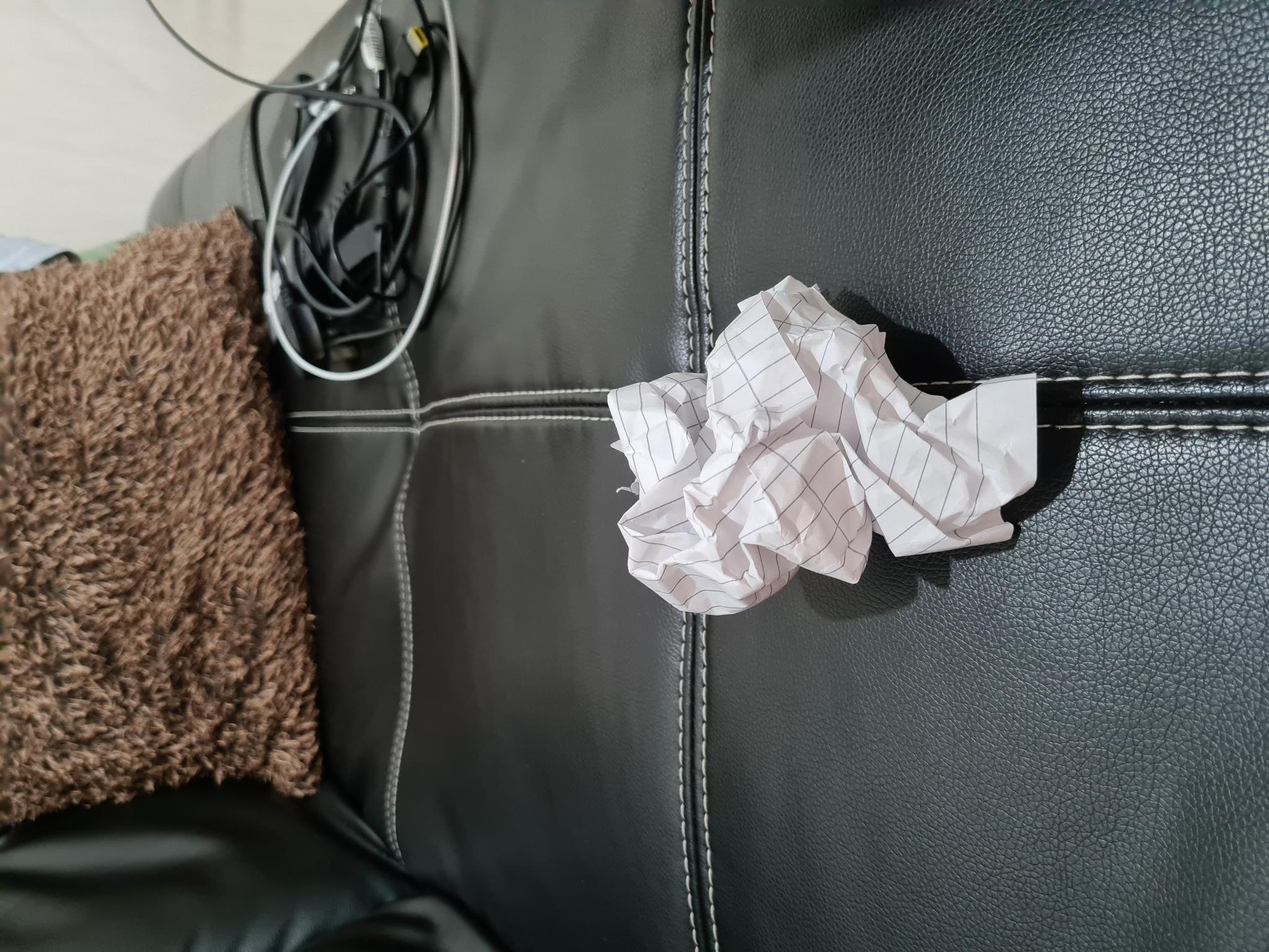Kertas: (337, 608, 674, 952)
